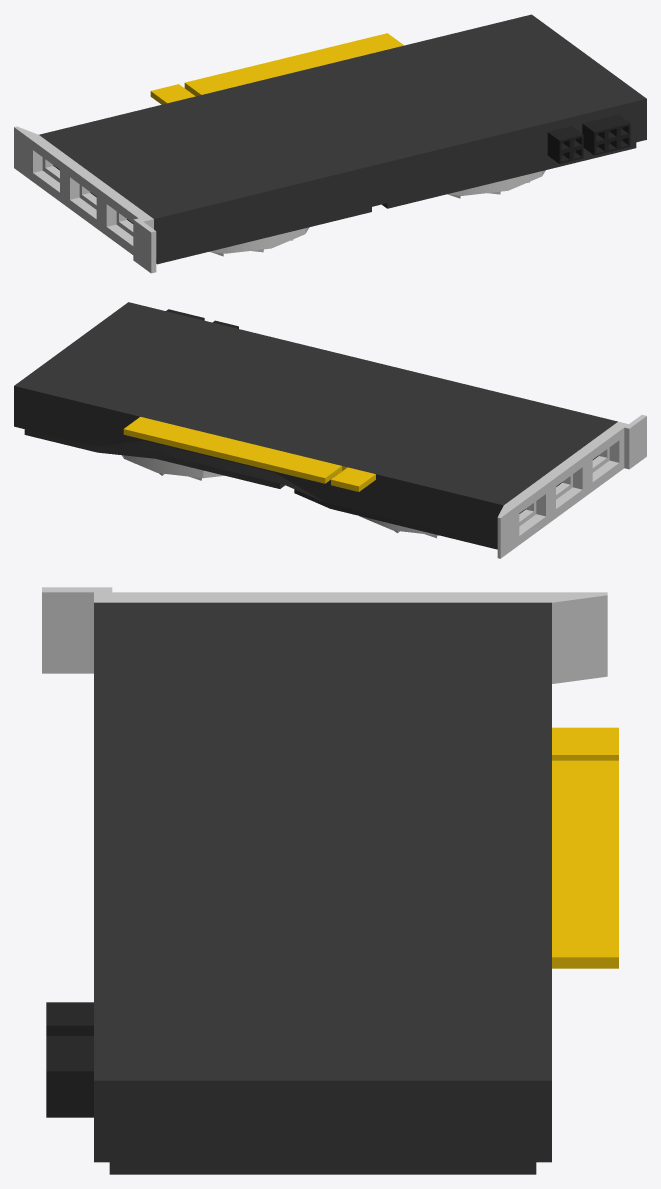
File: VGA.fbx
3 views of the same model, one above another, from view 1: azimuth 30°, elevation 25°; view 2: azimuth 150°, elevation 25°; view 3: azimuth 270°, elevation 25° (orthographic). The views are drawn at different scales.
Parts seen in each view (by area): view 1: VGA; view 2: VGA; view 3: VGA.
Part boxes in pixels (x1=…): VGA: x1=14, y1=14, x2=646, y2=273; VGA: x1=14, y1=302, x2=646, y2=558; VGA: x1=42, y1=587, x2=618, y2=1174.
Size of the model in its own units: 316 by 44.24 by 156.
